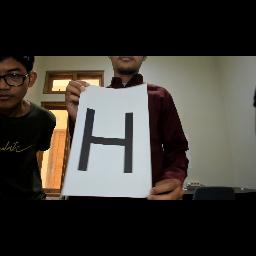h: (76, 104, 140, 182)
